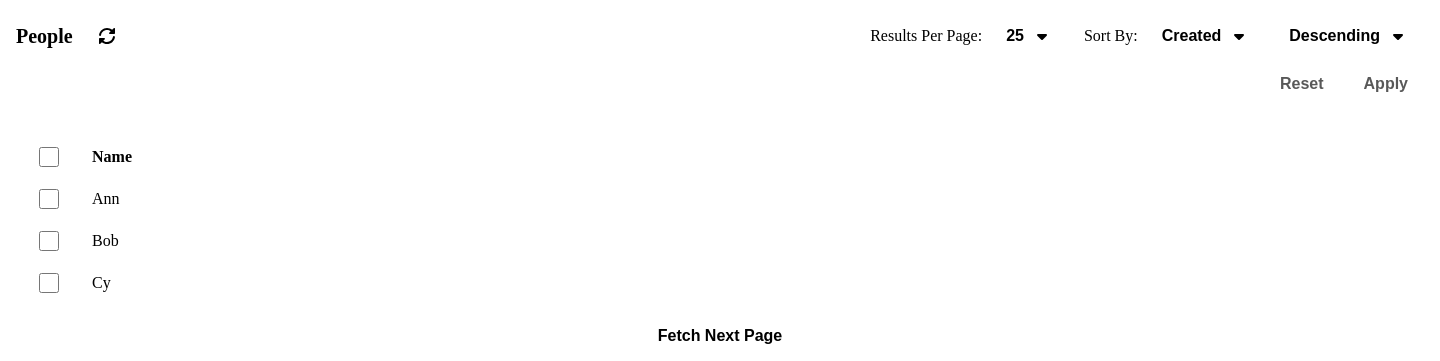
Test: InfiniteScroll › sorting › enables Apply once a different key is picked
The width and height of the screenshot is (1440, 361).
Step 1. Click the button with aria-label "Sort by: Created" → (1206,36), box x1=1146 y1=16 x2=1265 y2=56
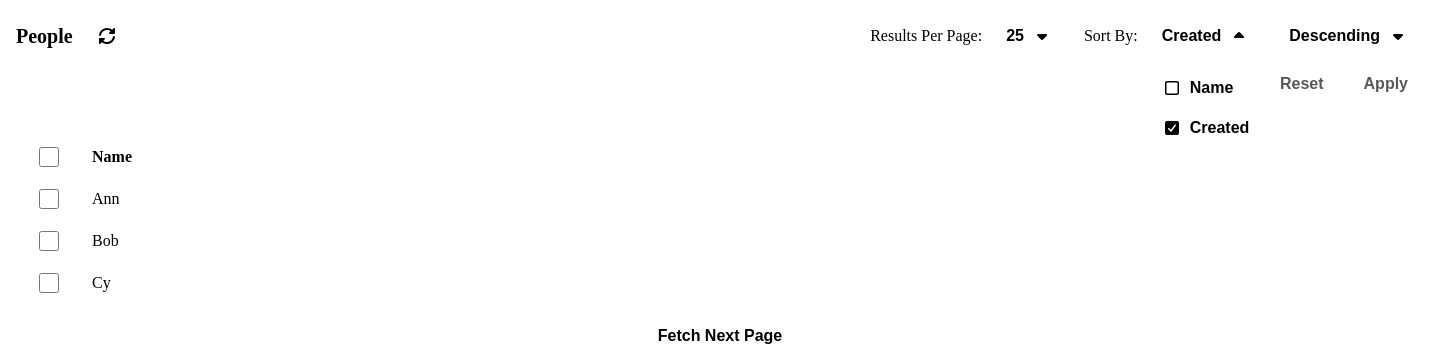
Step 2. Click the button "Name" → (1198,88), box x1=1146 y1=68 x2=1249 y2=108
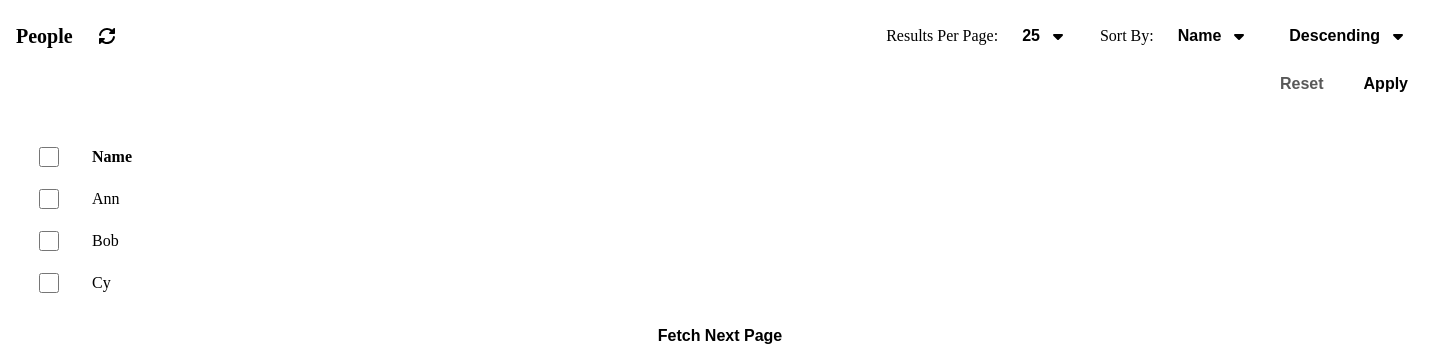
Result: the button "Apply" is enabled at x1=1348 y1=64 x2=1424 y2=104
